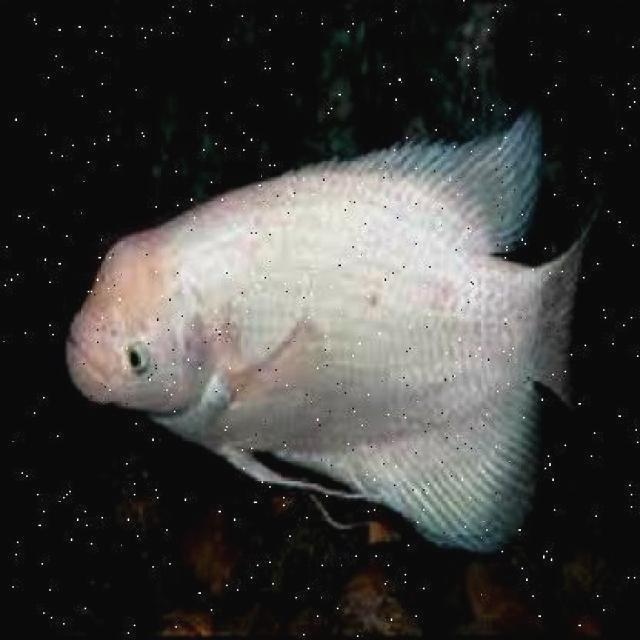gurame: (62, 116, 593, 539)
